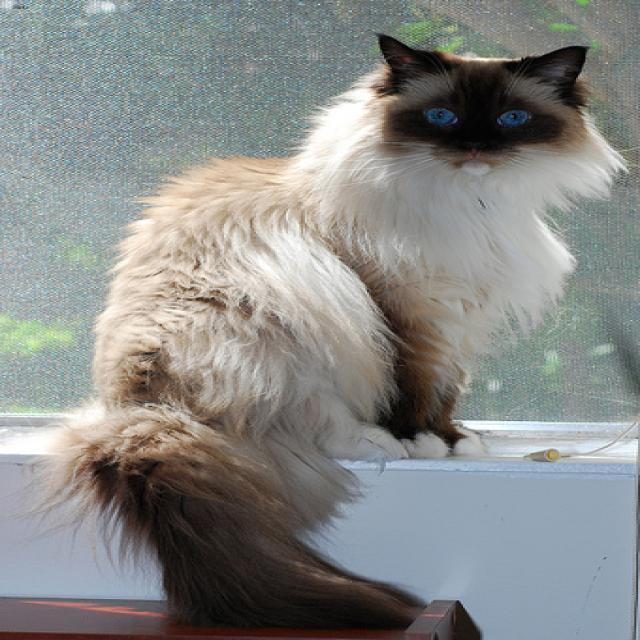Birman: (339, 30, 631, 217)
